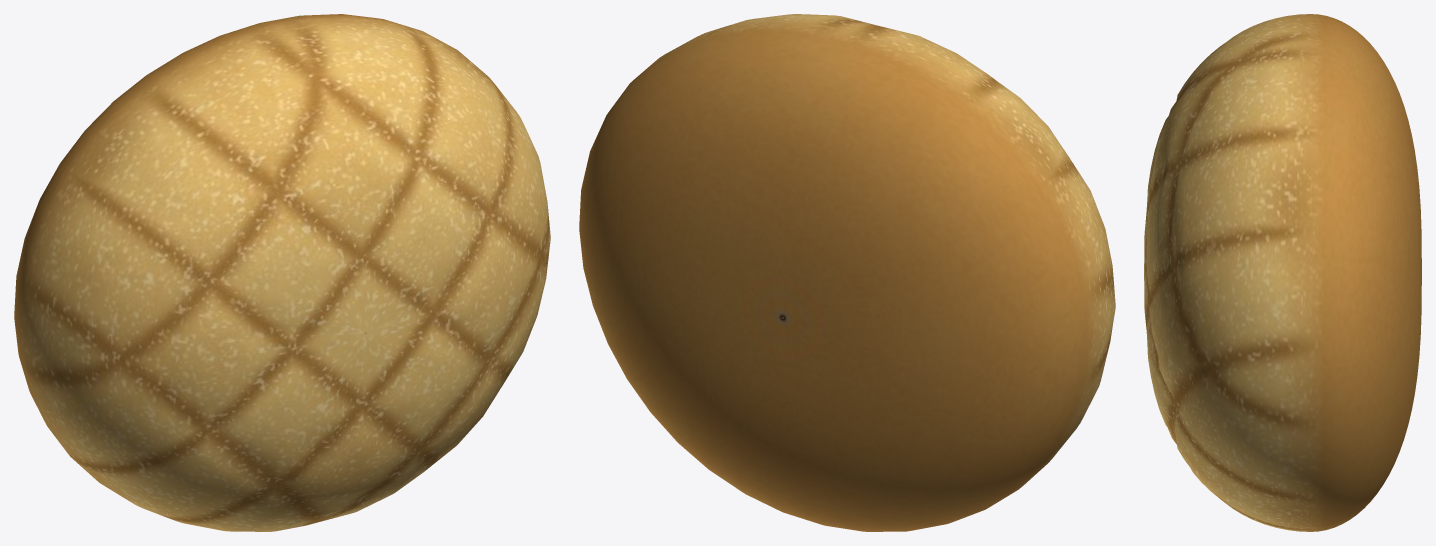
The model's file is melonpan.glb.
3 renders of one model, left to right at view 1: azimuth 30°, elevation 25°; view 2: azimuth 150°, elevation 25°; view 3: azimuth 270°, elevation 25°, orthographic. The views are drawn at different scales.
Visible parts, largest first — view 1: melonpan; view 2: melonpan; view 3: melonpan.
Boxes of the visible parts, bbox=[...] form: melonpan: bbox=[14, 14, 550, 531]; melonpan: bbox=[579, 14, 1115, 531]; melonpan: bbox=[1144, 14, 1421, 531].
Bounding box in the file's own units: 1.2 × 1.1 × 0.6.
1 material, 1 textured.
